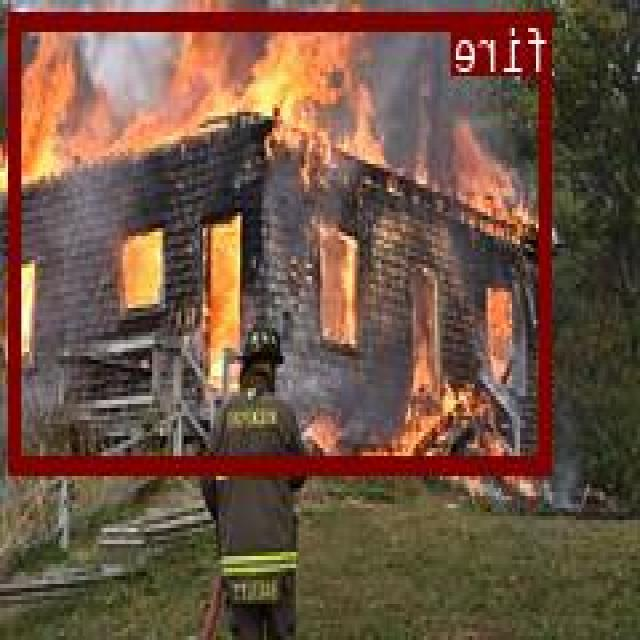fire: (11, 11, 553, 468)
